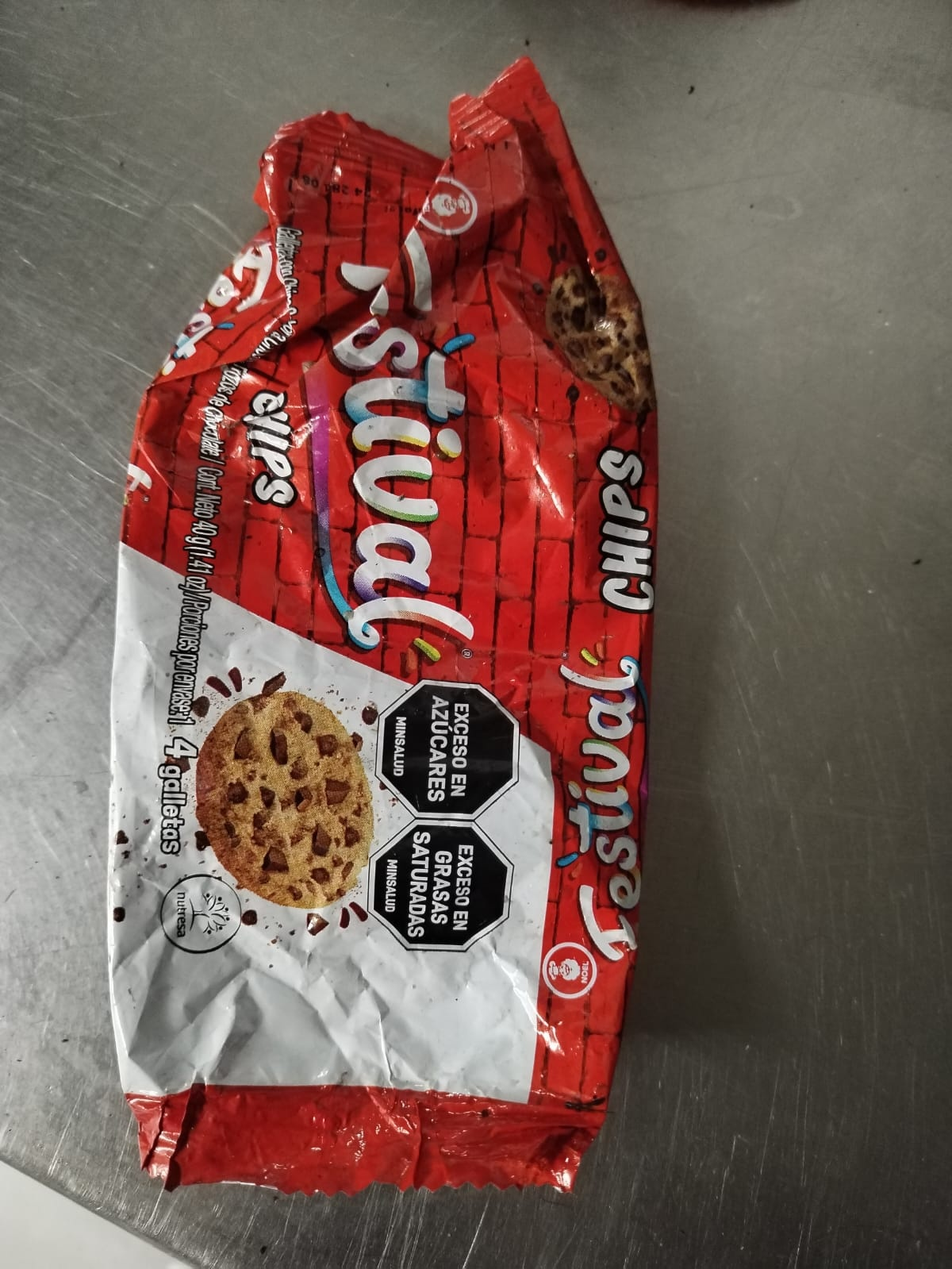Ordinario: (106, 53, 655, 1202)
